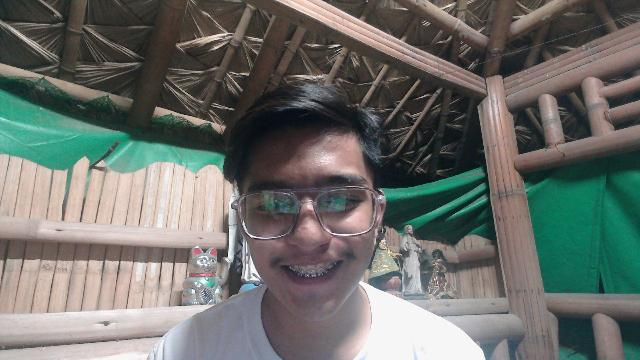senang: (236, 123, 379, 310)
